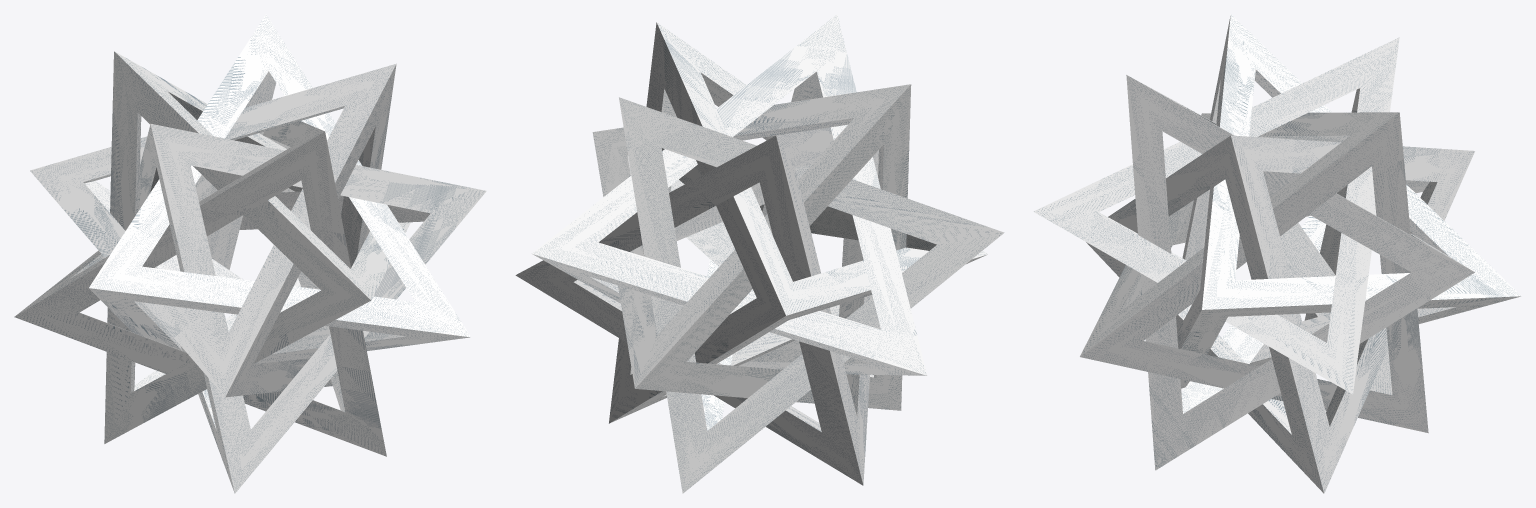
Rendered from tetrahedron.dae.
3 views of the same model, side by side, from view 1: azimuth 30°, elevation 25°; view 2: azimuth 150°, elevation 25°; view 3: azimuth 270°, elevation 25° (orthographic). The views are drawn at different scales.
Visible parts, largest first — view 1: five_intersecting_tetrahedra__single_edge (×29); view 2: five_intersecting_tetrahedra__single_edge (×29); view 3: five_intersecting_tetrahedra__single_edge (×25).
Boxes of the visible parts, x1,y1,x2,y2 form: five_intersecting_tetrahedra__single_edge (×29): (14, 14, 486, 493); five_intersecting_tetrahedra__single_edge (×29): (516, 14, 1003, 493); five_intersecting_tetrahedra__single_edge (×25): (1033, 14, 1521, 493).
Bounding box in the file's own units: 41.19 × 43.31 × 35.04.
